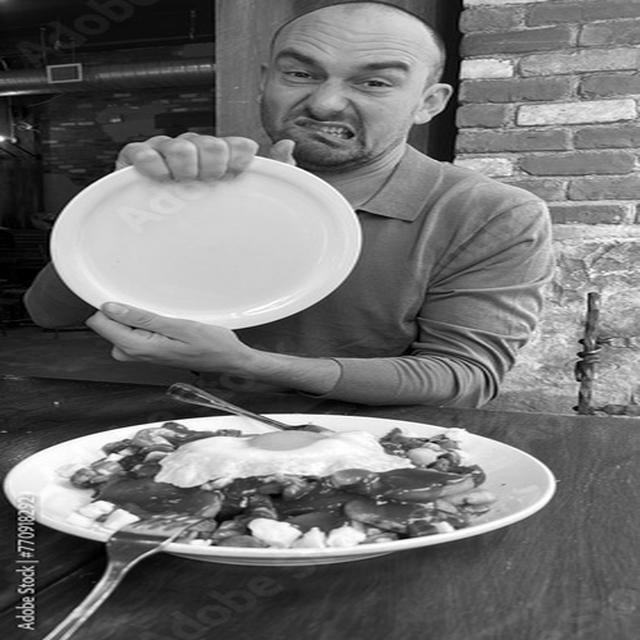Disgust: (261, 6, 432, 172)
